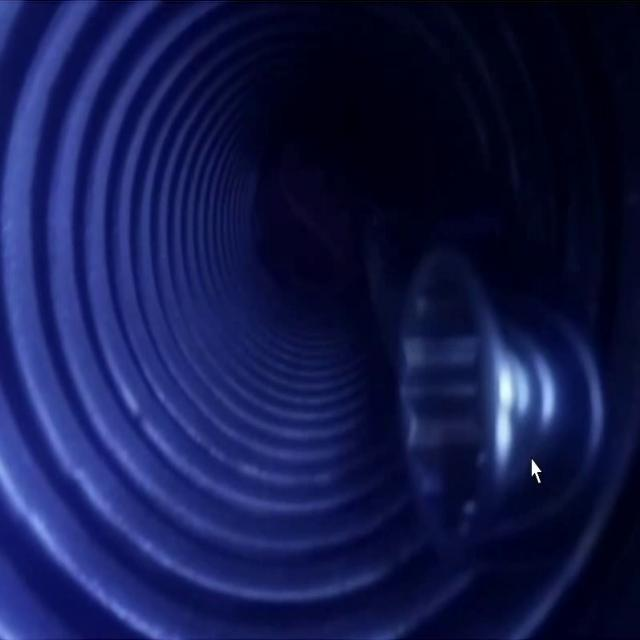metal piece: (402, 240, 603, 539)
